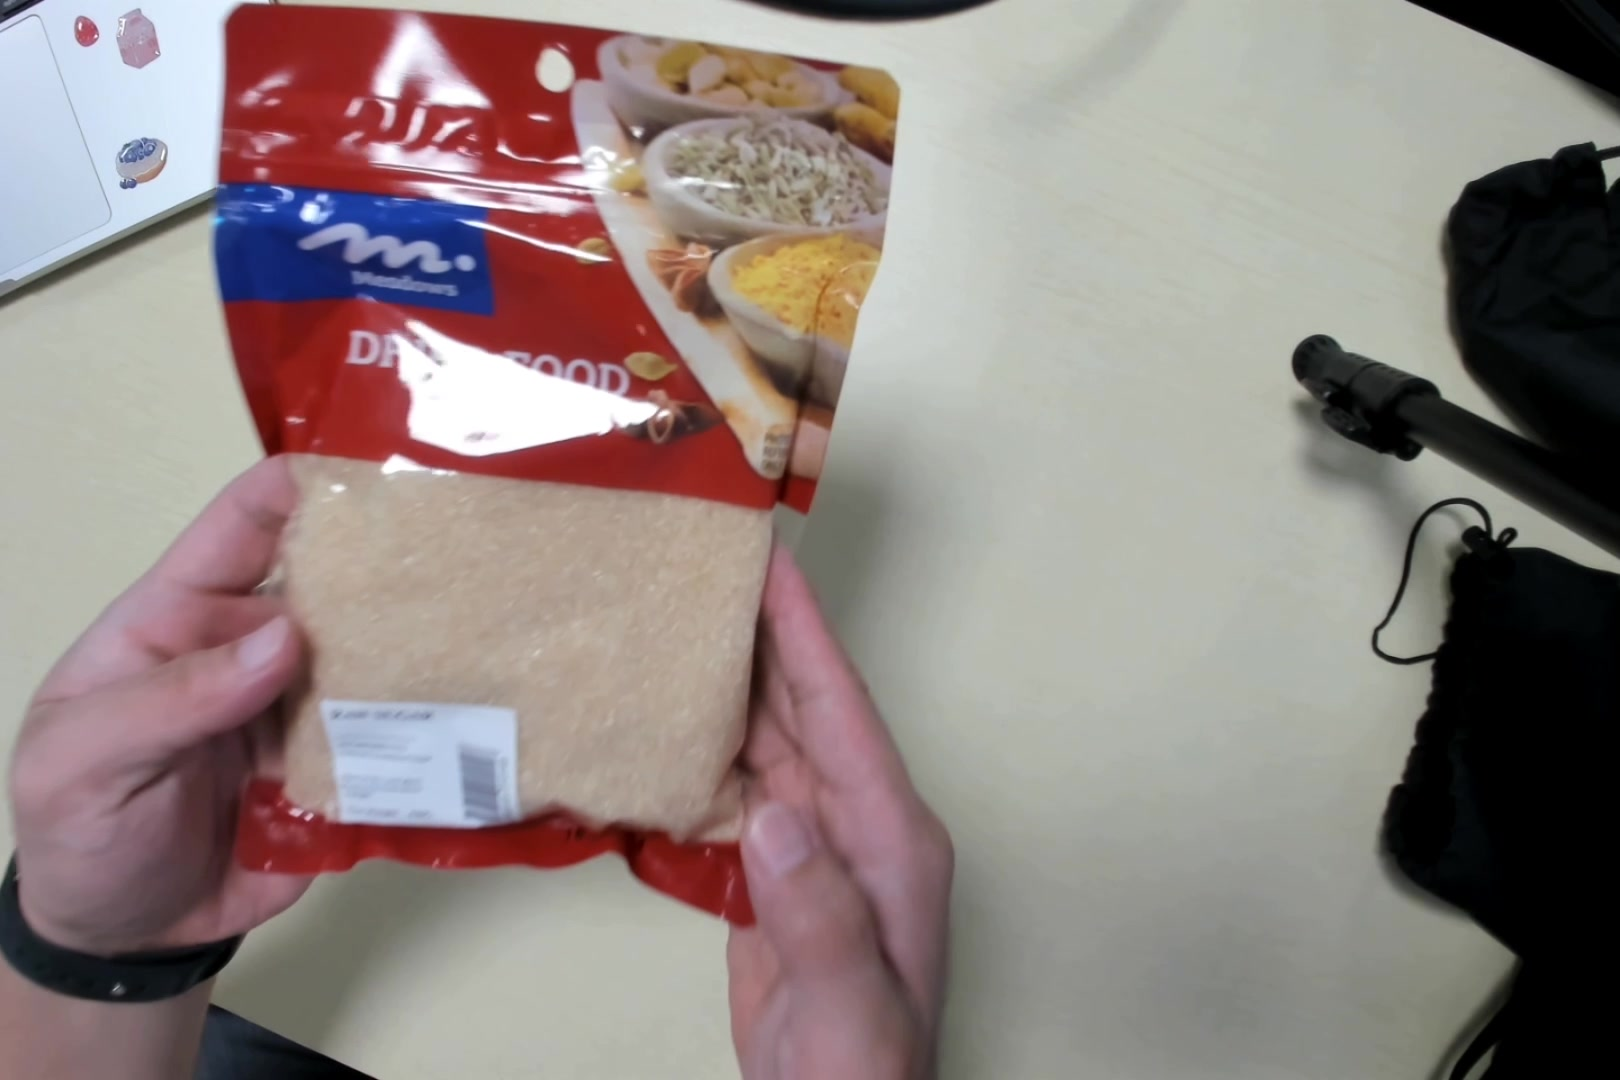Suger_200-299g_Halal_NonHealthy: (227, 2, 880, 876)
